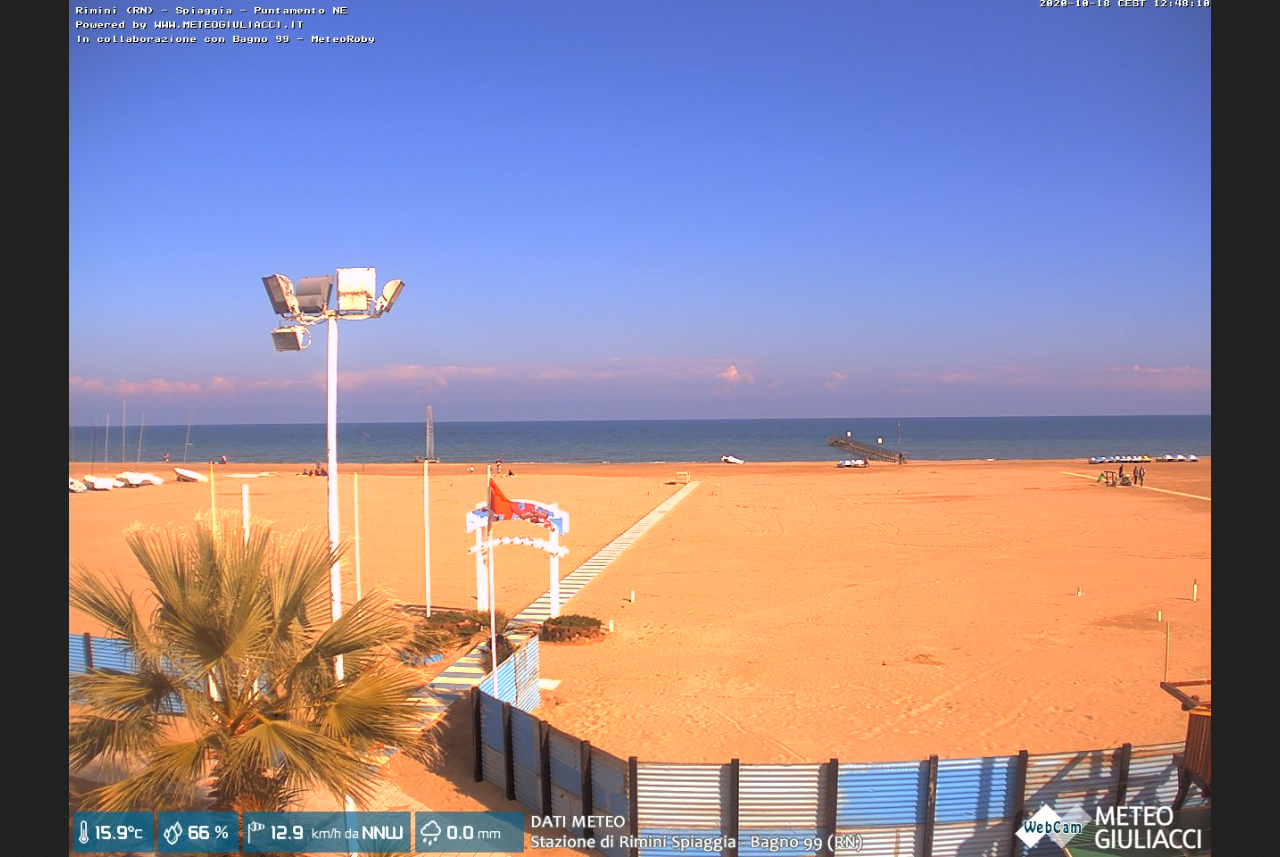yes: (485, 477, 537, 525)
